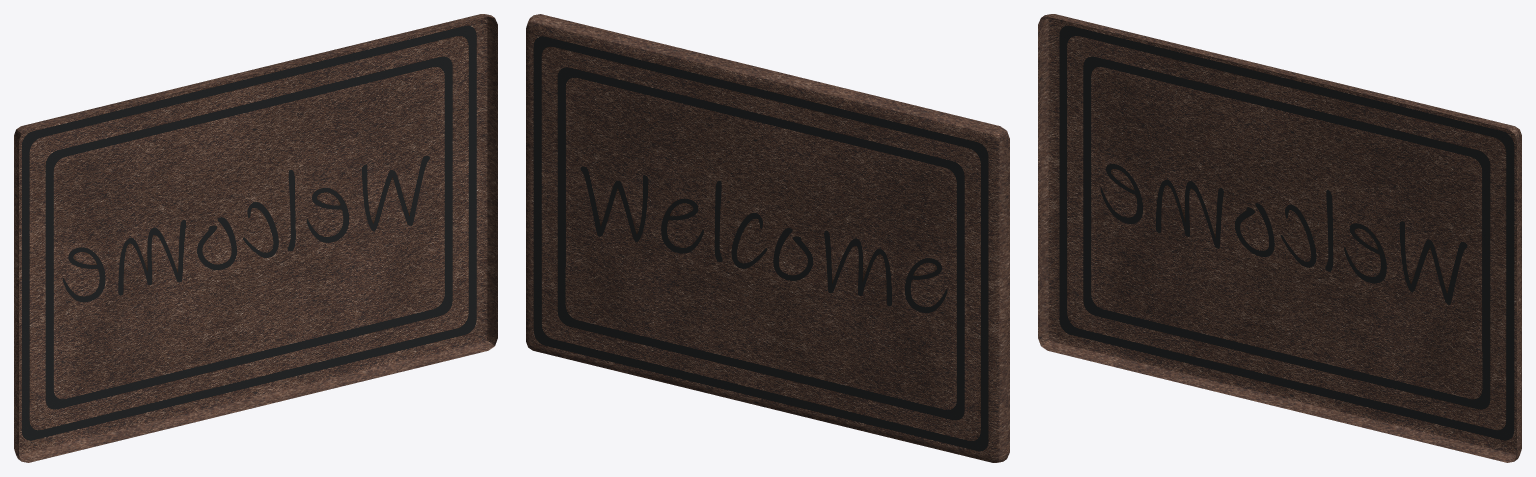
File: doormat.glb
3 renders of one model, left to right at view 1: azimuth 30°, elevation 25°; view 2: azimuth 150°, elevation 25°; view 3: azimuth 330°, elevation 25°, orthographic.
Visible parts, largest first — view 1: SM_Doormat; view 2: SM_Doormat; view 3: SM_Doormat.
Boxes of the visible parts, <box> form: SM_Doormat: <box>14,14,497,462</box>; SM_Doormat: <box>526,14,1009,462</box>; SM_Doormat: <box>1038,14,1521,462</box>.
Bounding box in the file's own units: 0.6 × 0.4 × 0.02.
Materials: 1 (1 with a texture image).
